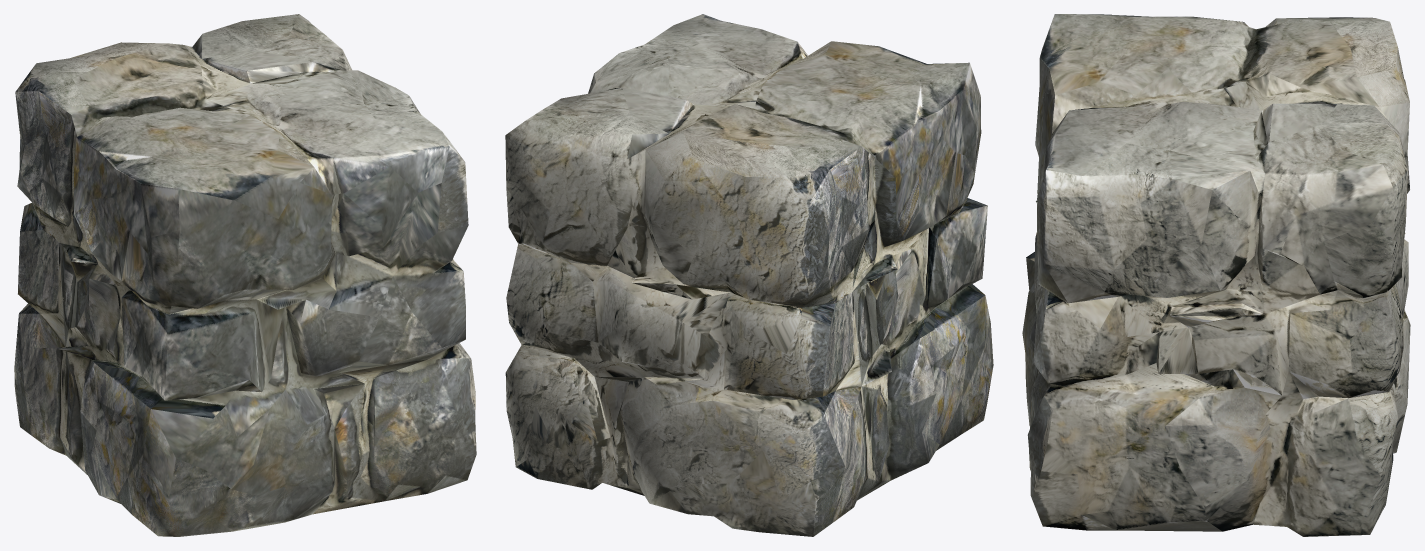
The model's file is StoneHalf.glb.
The picture shows the model from 3 angles, left to right: view 1: azimuth 30°, elevation 25°; view 2: azimuth 150°, elevation 25°; view 3: azimuth 270°, elevation 25°; orthographic projection. The views are drawn at different scales.
Visible parts, largest first — view 1: StoneHalf; view 2: StoneHalf; view 3: StoneHalf.
Boxes of the visible parts, box(x1,y1,x2,y2) form: StoneHalf: box(14, 14, 476, 536); StoneHalf: box(505, 14, 993, 536); StoneHalf: box(1022, 14, 1410, 536).
Size of the model in its own units: 0.4675 by 0.5 by 0.4574.
1 material, 1 textured.
